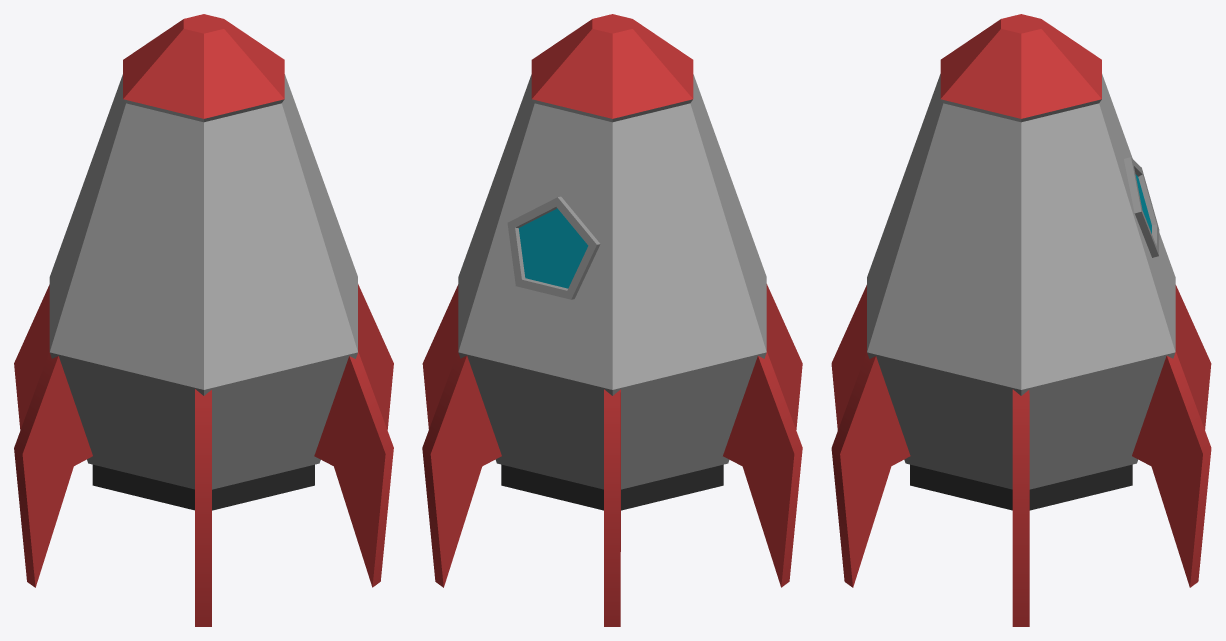
Rendered from MODEL Rocket ship.fbx.
The picture shows the model from 3 angles, left to right: view 1: azimuth 30°, elevation 25°; view 2: azimuth 150°, elevation 25°; view 3: azimuth 270°, elevation 25°; orthographic projection.
Parts seen in each view (by area): view 1: upperhalf, lowerhalf, nose, leg_1, leg_5, boost, leg_2, leg_3, leg_4, nose_1; view 2: upperhalf, lowerhalf, nose, leg, leg_5, window, boost, leg_4, leg_2, leg_3, nose_1; view 3: upperhalf, lowerhalf, nose, leg, leg_1, boost, leg_3, leg_4, leg_2, window, nose_1.
Boxes of the visible parts, bbox=[...] form: upperhalf: bbox=[49, 74, 357, 389]; lowerhalf: bbox=[50, 352, 357, 489]; nose: bbox=[123, 14, 284, 118]; leg_1: bbox=[314, 351, 393, 587]; leg_5: bbox=[14, 351, 92, 587]; boost: bbox=[92, 464, 314, 510]; leg_2: bbox=[195, 389, 211, 626]; leg_3: bbox=[358, 284, 393, 429]; leg_4: bbox=[14, 284, 49, 429]; nose_1: bbox=[123, 99, 284, 122]; upperhalf: bbox=[458, 74, 766, 389]; lowerhalf: bbox=[458, 352, 766, 489]; nose: bbox=[531, 14, 693, 118]; leg: bbox=[422, 351, 501, 587]; leg_5: bbox=[723, 351, 802, 587]; window: bbox=[507, 196, 600, 299]; boost: bbox=[501, 464, 723, 510]; leg_4: bbox=[604, 389, 620, 626]; leg_2: bbox=[766, 284, 802, 429]; leg_3: bbox=[422, 284, 458, 428]; nose_1: bbox=[532, 99, 692, 122]; upperhalf: bbox=[867, 74, 1175, 389]; lowerhalf: bbox=[867, 352, 1175, 489]; nose: bbox=[940, 14, 1101, 118]; leg: bbox=[1132, 351, 1211, 587]; leg_1: bbox=[831, 352, 910, 587]; boost: bbox=[910, 464, 1132, 510]; leg_3: bbox=[1012, 389, 1029, 626]; leg_4: bbox=[1175, 285, 1211, 429]; leg_2: bbox=[831, 285, 866, 430]; window: bbox=[1124, 157, 1159, 257]; nose_1: bbox=[941, 99, 1101, 122].
Size of the model in its own units: 167 by 223 by 148.
